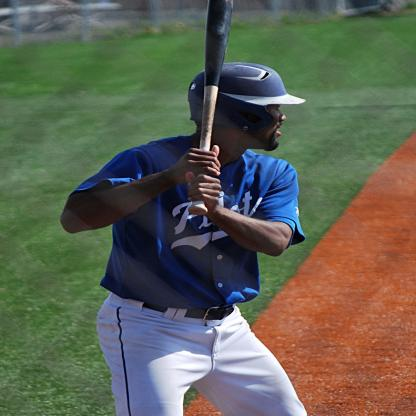Helmet: (181, 60, 302, 152)
